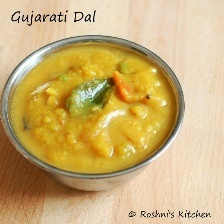dal: (5, 38, 184, 177)
